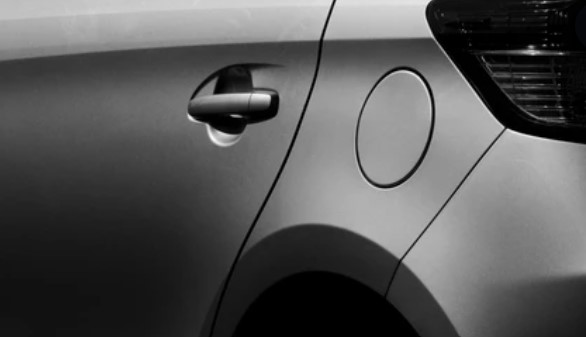closed: (347, 60, 447, 190)
